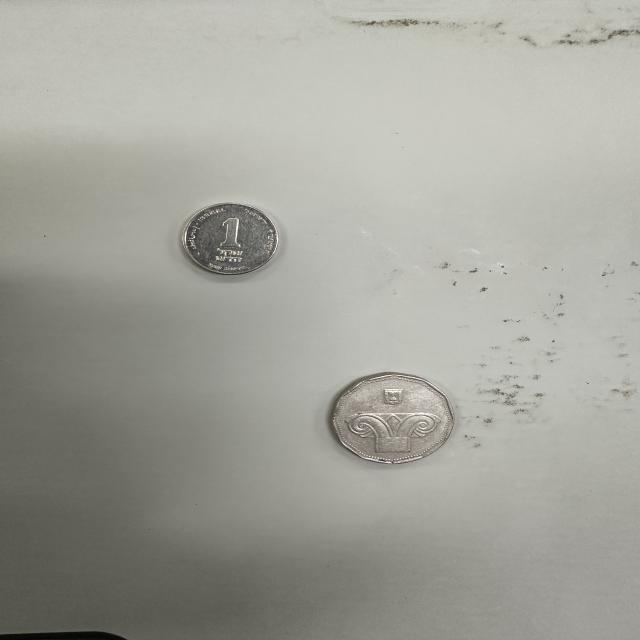1-shekel: (182, 205, 295, 286)
5-shekel: (324, 366, 462, 471)
